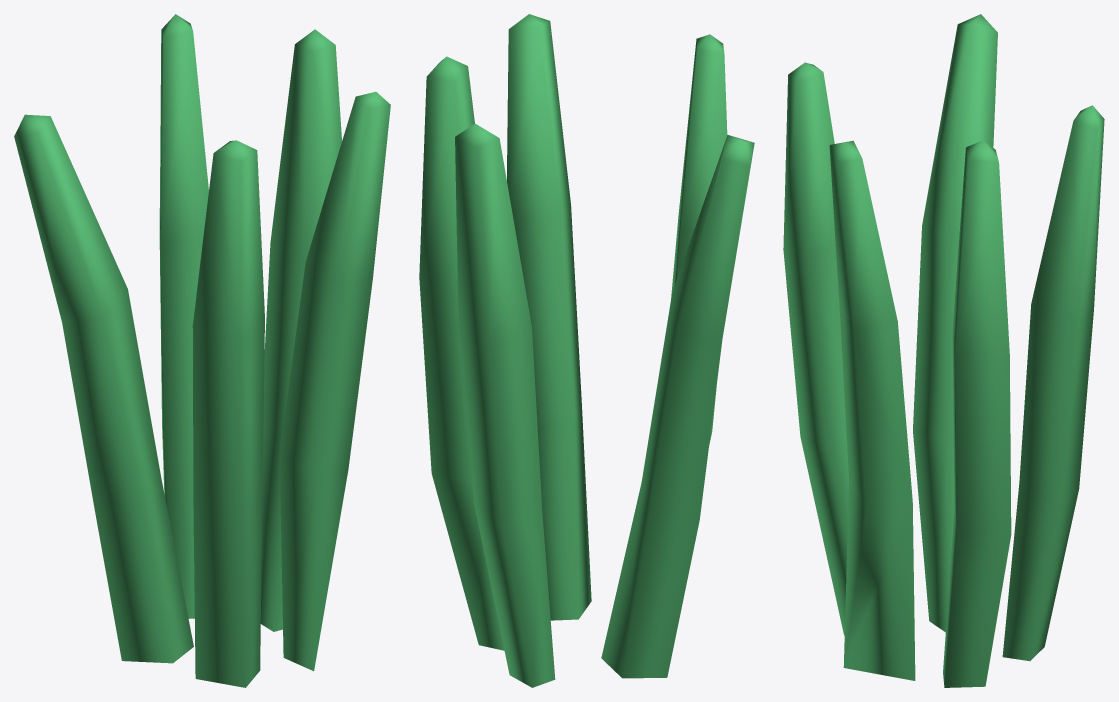
Rendered from Grass_B_04_LOD2.gltf.
3 renders of one model, left to right at view 1: azimuth 30°, elevation 25°; view 2: azimuth 150°, elevation 25°; view 3: azimuth 270°, elevation 25°, orthographic. The views are drawn at different scales.
Parts seen in each view (by area): view 1: Grass_B_04_LOD2_Cube.714; view 2: Grass_B_04_LOD2_Cube.714; view 3: Grass_B_04_LOD2_Cube.714.
Boxes of the visible parts, box(x1,y1,x2,y2) form: Grass_B_04_LOD2_Cube.714: box(14, 14, 390, 687); Grass_B_04_LOD2_Cube.714: box(419, 14, 754, 687); Grass_B_04_LOD2_Cube.714: box(783, 14, 1104, 687).
Size of the model in its own units: 3.2 by 5.47 by 2.83.
Materials: 1 (1 with a texture image).
